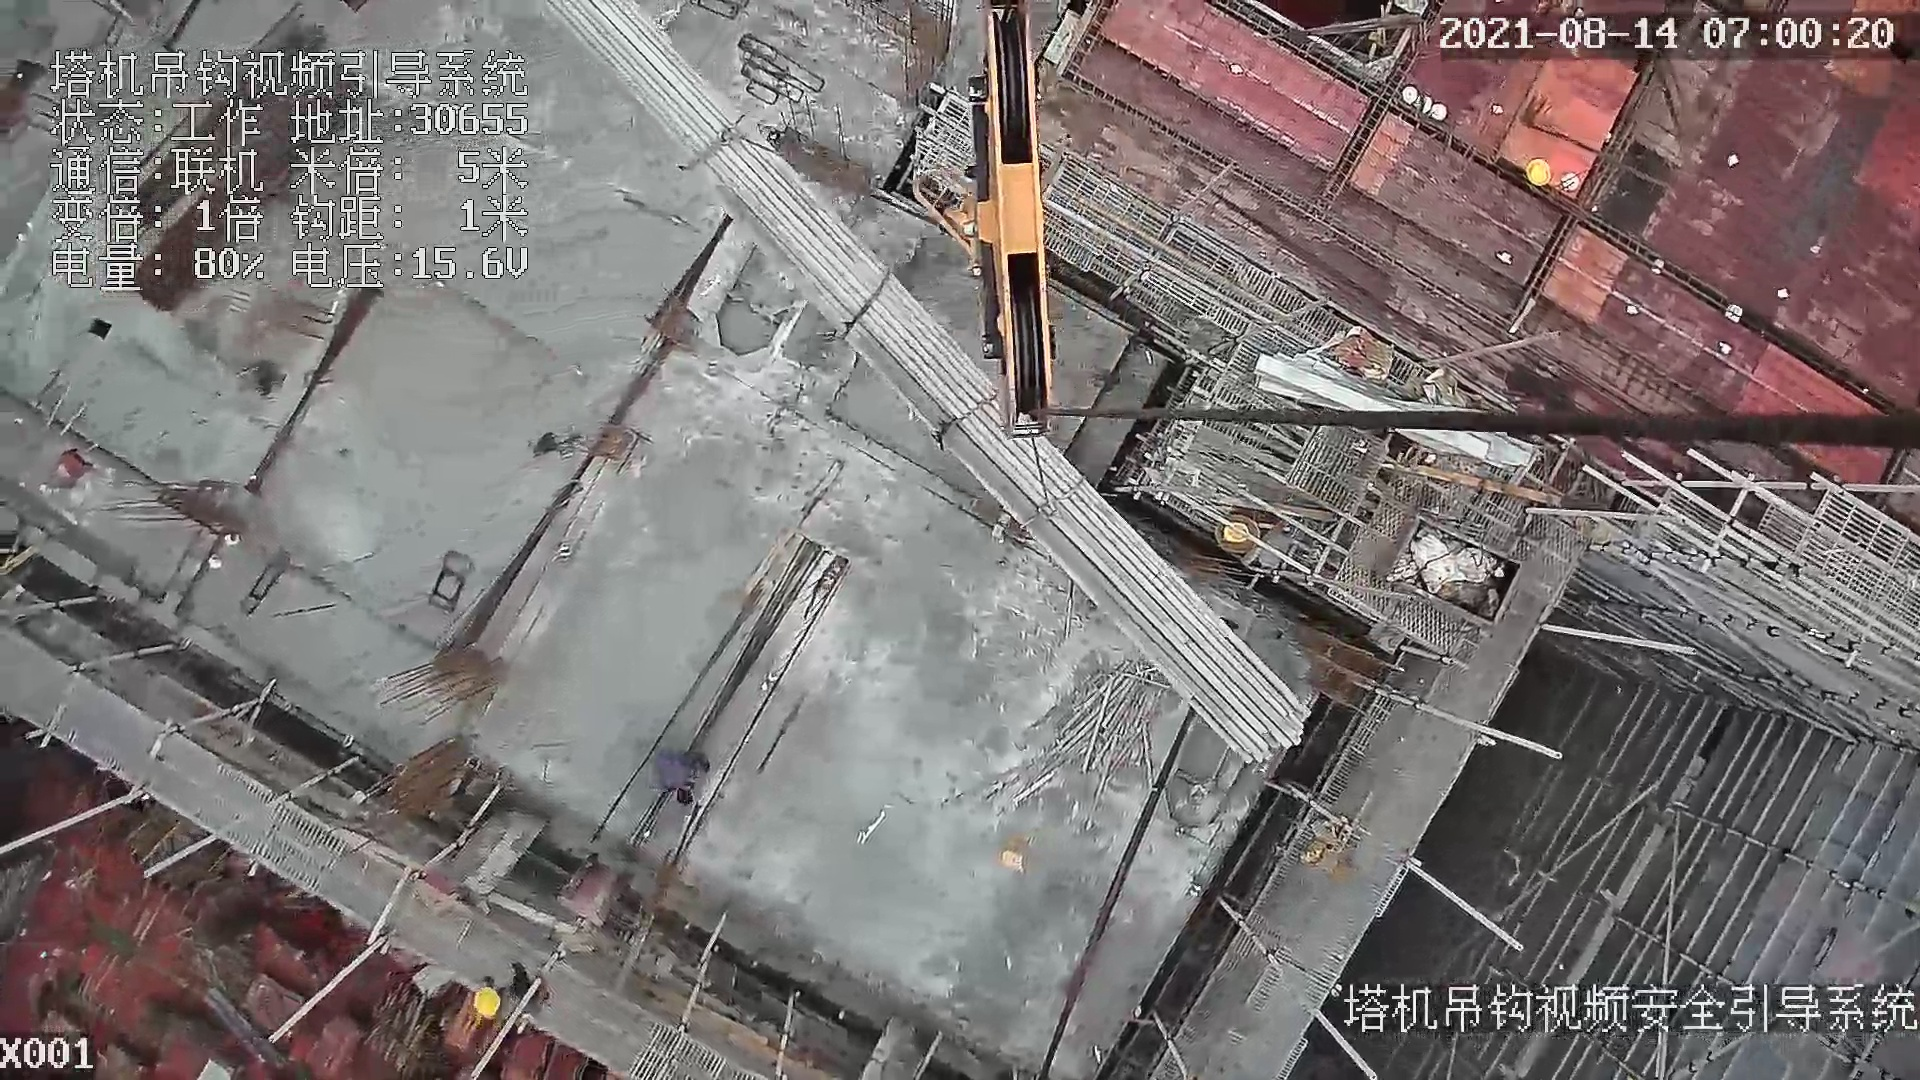helmet: (474, 988, 501, 1017), (1525, 159, 1551, 187), (1224, 523, 1250, 543)
hook: (918, 1, 1070, 447)
person: (470, 969, 549, 1030), (647, 745, 718, 809)
rebar: (551, 1, 1311, 768)
